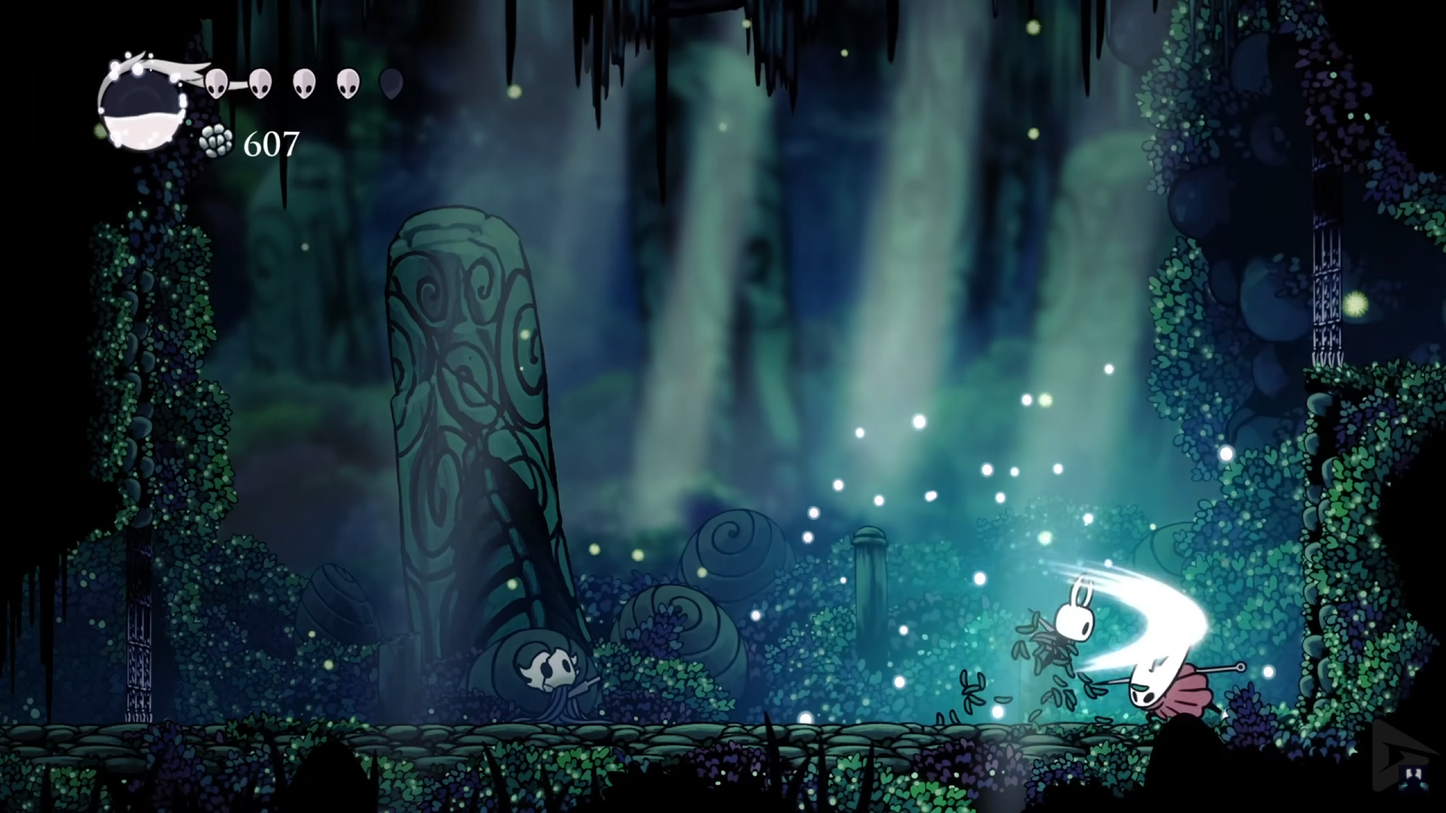HK: (1043, 575, 1103, 671)
